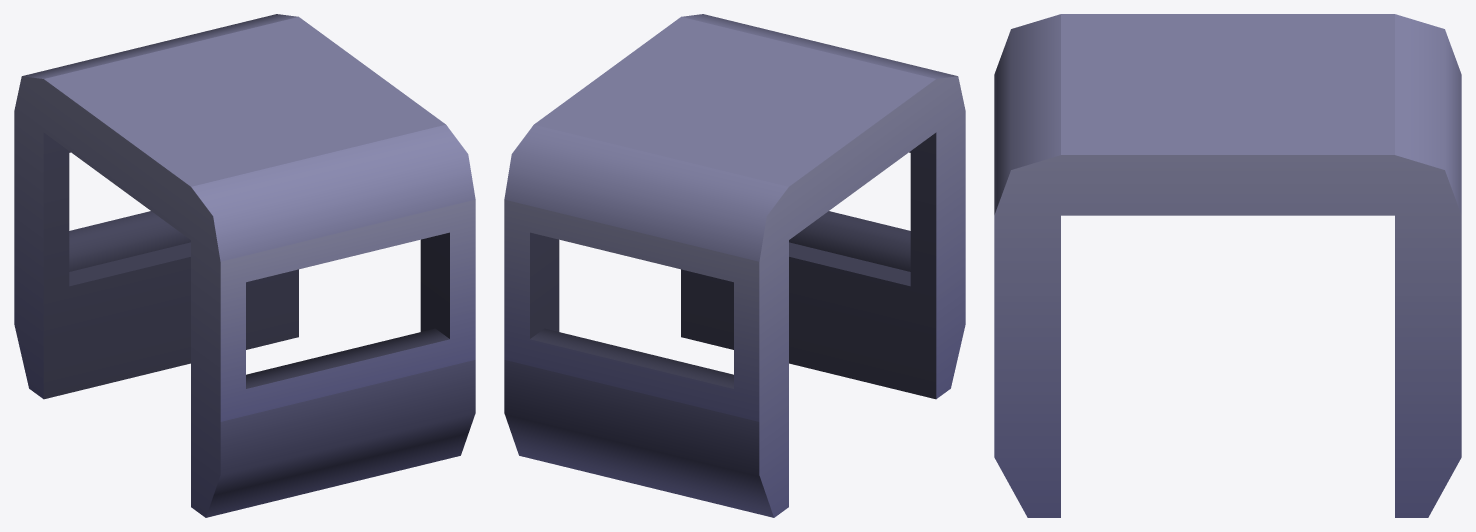
File: cover-window.glb
3 renders of one model, left to right at view 1: azimuth 30°, elevation 25°; view 2: azimuth 150°, elevation 25°; view 3: azimuth 270°, elevation 25°, orthographic. The views are drawn at different scales.
Visible parts, largest first — view 1: cover-window; view 2: cover-window; view 3: cover-window.
Part boxes in pixels (<box>): cover-window: <box>14,14,475,517</box>; cover-window: <box>504,14,965,517</box>; cover-window: <box>994,14,1461,517</box>.
Bounding box in the file's own units: 1 × 1.2 × 1.4.
